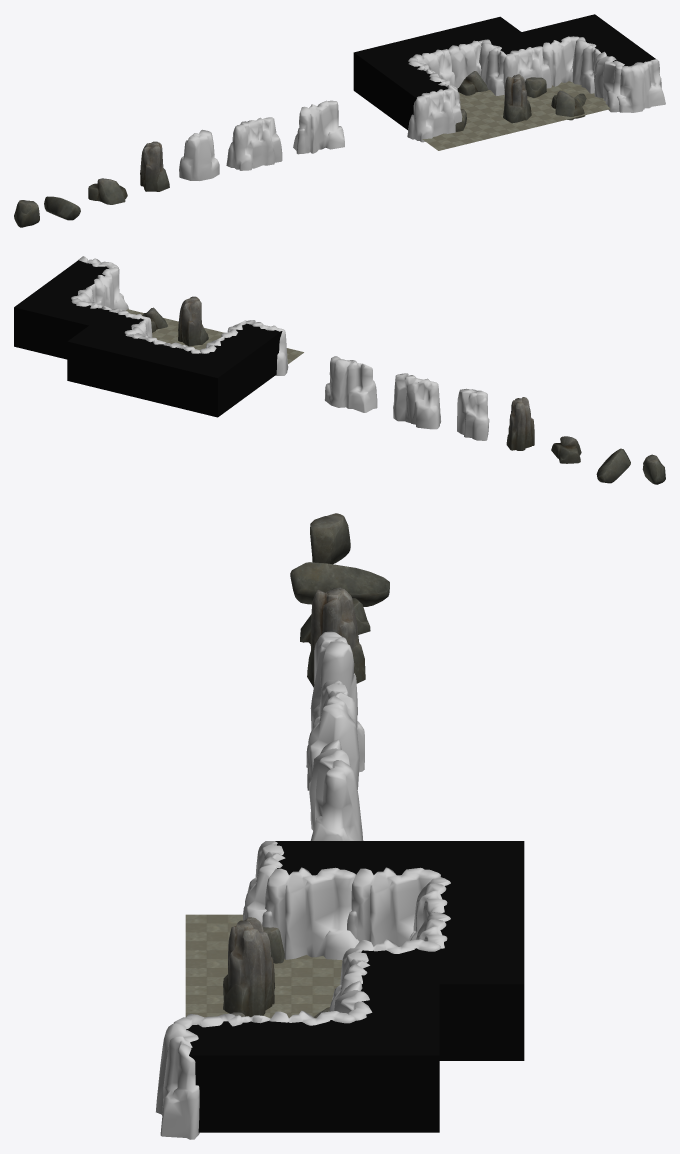
File: Rock_Kit.obj
The picture shows the model from 3 angles, top to bottom: view 1: azimuth 30°, elevation 25°; view 2: azimuth 150°, elevation 25°; view 3: azimuth 270°, elevation 25°; orthographic projection. The views are drawn at different scales.
Parts seen in each view (by area): view 1: RockWall4a_ManualRetopoB.002_Plane.018, RockWall4a_ManualRetopoB.006_Plane.018, RockWall4b_ManualRetopo.004_Plane.024, RockWall4b_ManualRetopo.009_Plane.024, Void4x4.004_Cube.002, RockWall2_ManualRetopo.002_Plane.017, Void4x4.003_Cube.002, RockWall4b_ManualRetopo.008_Plane.024, RockWall4a_ManualRetopoB.003_Plane.018, RockWall4b_ManualRetopo.003_Plane.024, Void4x4.016_Cube.002, RockWall_Pillar_Retopo.002_Plane.020 (+27 smaller); view 2: Void4x4.004_Cube.002, Void4x4.010_Cube.002, Void4x4.013_Cube.002, Void4x4.005_Cube.002, RockWall4b_ManualRetopo.004_Plane.024, Void4x4.009_Cube.002, RockWall4a_ManualRetopoB.002_Plane.018, Void4x4.003_Cube.002, Void4x4.012_Cube.002, RockWall2_ManualRetopo.002_Plane.017, Void4x4.016_Cube.002, RockWall_Pillar_Retopo.002_Plane.020 (+10 smaller); view 3: Void4x4.010_Cube.002, Void4x4.013_Cube.002, Void4x4.014_Cube.002, Void4x4.015_Cube.002, RockWall4b_ManualRetopo.006_Plane.024, RockWall4b_ManualRetopo.005_Plane.024, RockWall4b_ManualRetopo.004_Plane.024, RockWall4b_ManualRetopo.009_Plane.024, RockWall_Pillar_Retopo.003_Plane.002, RockWall4a_ManualRetopoB.002_Plane.018, Void4x4.004_Cube.002, RockWall_Rock1_Retopo.002_Plane.022 (+18 smaller).
Boxes of the visible parts, x1,y1,x2,y2 form: RockWall4a_ManualRetopoB.002_Plane.018: (226,117,282,170); RockWall4a_ManualRetopoB.006_Plane.018: (407,88,462,142); RockWall4b_ManualRetopo.004_Plane.024: (293,100,344,154); RockWall4b_ManualRetopo.009_Plane.024: (617,59,665,112); Void4x4.004_Cube.002: (353,43,409,105); RockWall2_ManualRetopo.002_Plane.017: (179,129,219,180); Void4x4.003_Cube.002: (375,59,430,121); RockWall4b_ManualRetopo.008_Plane.024: (593,51,626,112); RockWall4a_ManualRetopoB.003_Plane.018: (503,46,551,90); RockWall4b_ManualRetopo.003_Plane.024: (542,36,578,86); Void4x4.016_Cube.002: (396,75,447,130); RockWall_Pillar_Retopo.002_Plane.020: (140,141,169,191); Void4x4.004_Cube.002: (180,353,239,417); Void4x4.010_Cube.002: (67,325,125,389); Void4x4.013_Cube.002: (14,291,71,355); Void4x4.005_Cube.002: (142,345,201,408); RockWall4b_ManualRetopo.004_Plane.024: (324,356,377,412); Void4x4.009_Cube.002: (105,336,163,398); RockWall4a_ManualRetopoB.002_Plane.018: (393,373,441,429); Void4x4.003_Cube.002: (205,338,261,400); Void4x4.012_Cube.002: (51,302,109,359); RockWall2_ManualRetopo.002_Plane.017: (457,388,489,440); Void4x4.016_Cube.002: (227,323,282,385); RockWall_Pillar_Retopo.002_Plane.020: (506,397,534,450); Void4x4.010_Cube.002: (439,948,524,1060); Void4x4.013_Cube.002: (355,1020,439,1132); Void4x4.014_Cube.002: (270,1020,354,1132); Void4x4.015_Cube.002: (186,1020,270,1132); RockWall4b_ManualRetopo.006_Plane.024: (262,867,359,960); RockWall4b_ManualRetopo.005_Plane.024: (347,867,440,946); RockWall4b_ManualRetopo.004_Plane.024: (309,739,363,840); RockWall4b_ManualRetopo.009_Plane.024: (156,1017,199,1139); RockWall_Pillar_Retopo.003_Plane.002: (223,917,275,1016); RockWall4a_ManualRetopoB.002_Plane.018: (306,680,364,790); Void4x4.004_Cube.002: (439,841,524,876); RockWall_Rock1_Retopo.002_Plane.022: (290,562,389,606).
Bounding box in the file's own units: 66.56 × 5.44 × 17.41.
